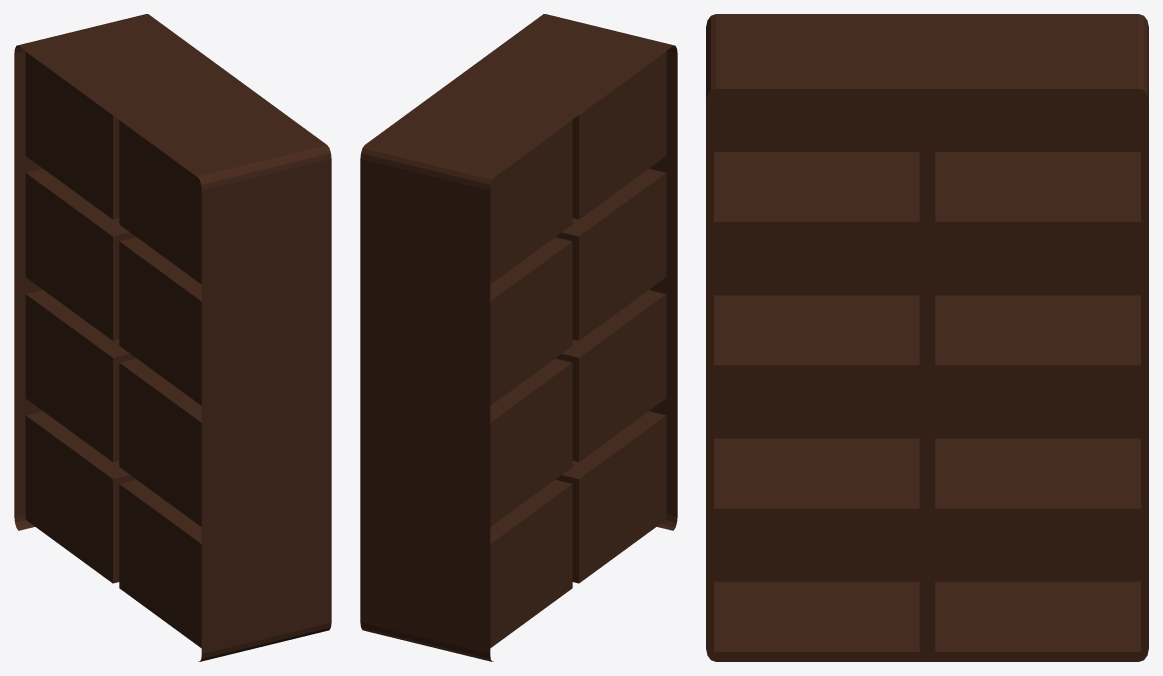
Rendered from EstanteriaDePie.fbx.
The picture shows the model from 3 angles, left to right: view 1: azimuth 30°, elevation 25°; view 2: azimuth 150°, elevation 25°; view 3: azimuth 270°, elevation 25°; orthographic projection. The views are drawn at different scales.
Parts seen in each view (by area): view 1: Estanteria; view 2: Estanteria; view 3: Estanteria.
Boxes of the visible parts, <box> form: Estanteria: <box>14,14,331,661</box>; Estanteria: <box>360,14,677,661</box>; Estanteria: <box>706,14,1148,661</box>.
Bounding box in the file's own units: 0.629 × 2.25 × 1.57.
